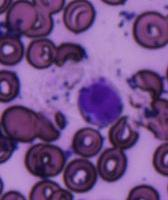L: (76, 75, 126, 127)
